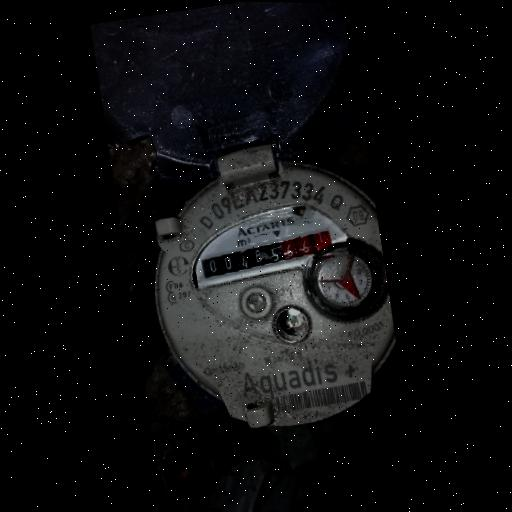0: (199, 255, 223, 278), (218, 252, 239, 273)
1: (310, 229, 333, 254)
4: (234, 248, 255, 271)
5: (265, 241, 284, 263)
6: (293, 233, 315, 257), (278, 238, 298, 260)
8: (250, 244, 271, 268)
border_water_meter_number: (198, 229, 335, 281)
